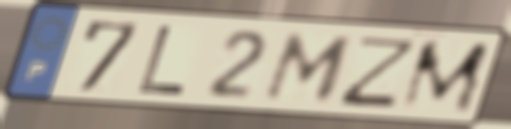2: (202, 28, 275, 102)
7: (77, 18, 144, 94)
L: (133, 23, 190, 98)
M: (395, 39, 495, 115), (258, 30, 359, 104)
Z: (333, 34, 424, 110)
